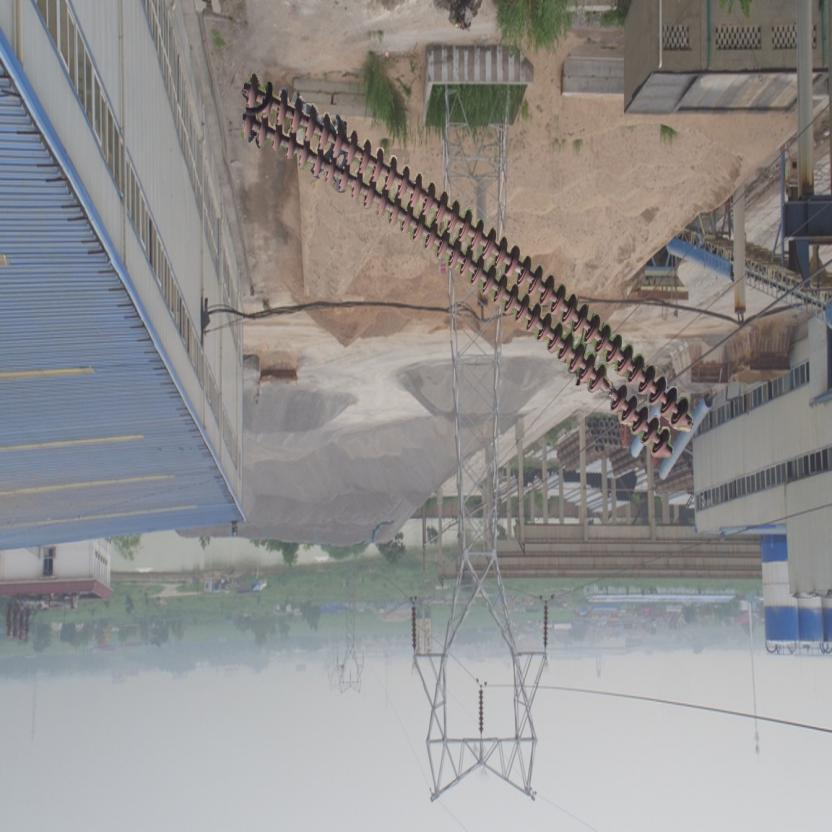defect: (584, 367, 628, 414)
